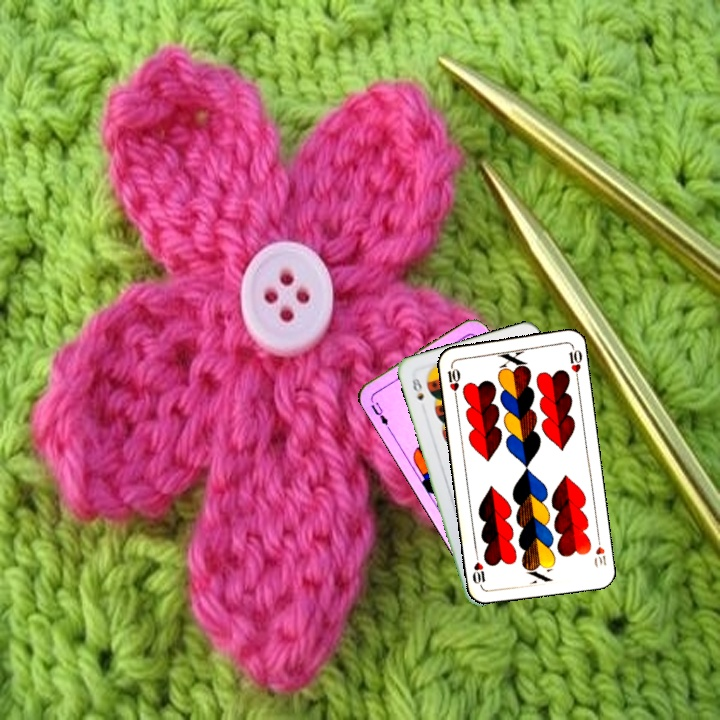EU: (367, 395, 393, 432)
H10: (444, 360, 463, 400), (590, 531, 609, 570)
S8: (408, 374, 426, 403)
